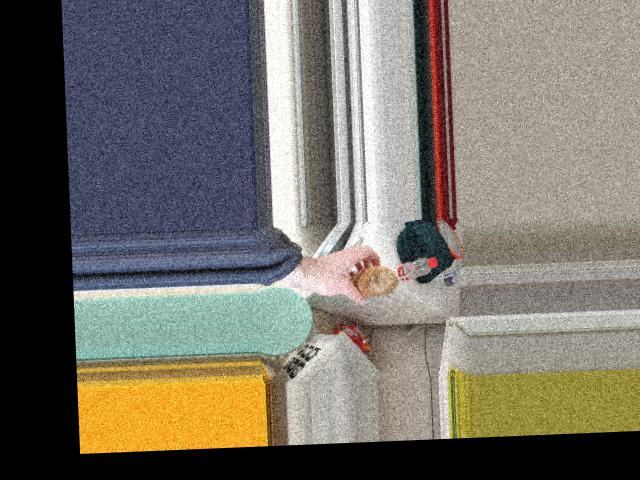sweet_potato: (344, 257, 397, 302)
